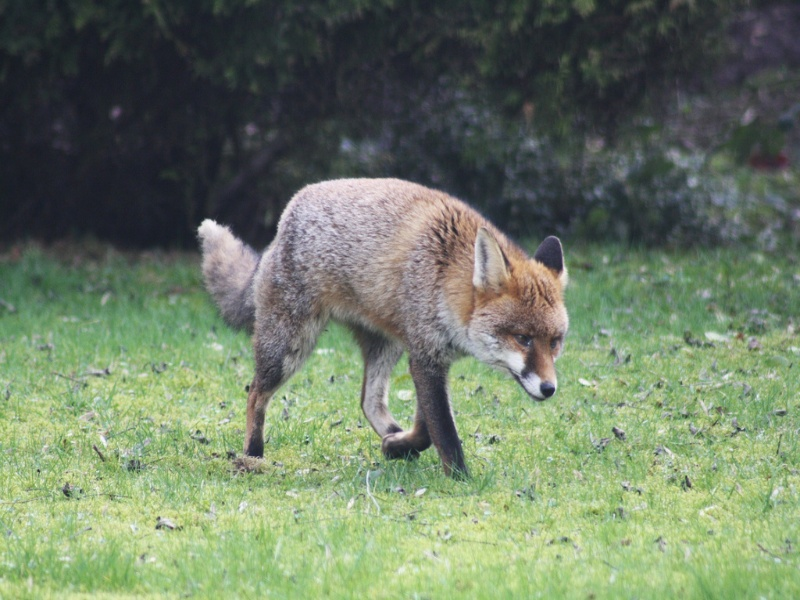fox: (193, 172, 575, 482)
